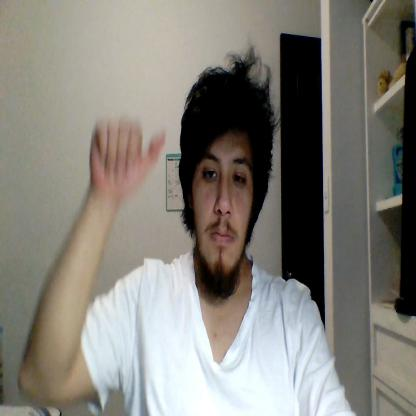A: (90, 114, 165, 196)
